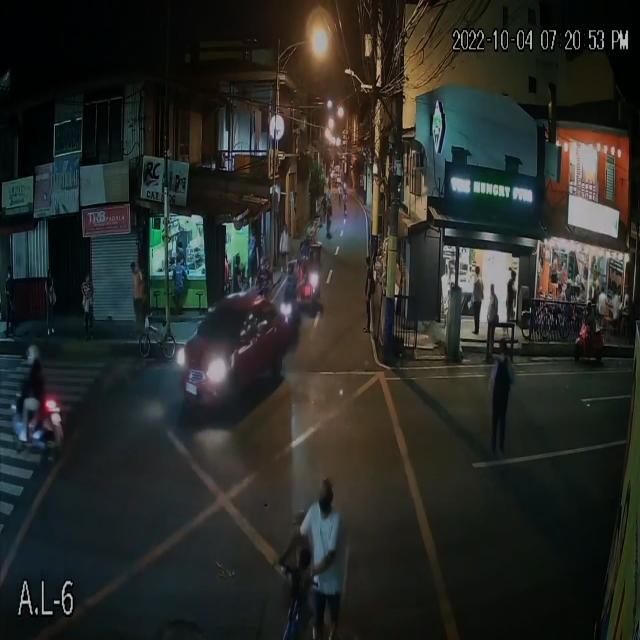Full-Faced: (24, 337, 45, 366)
